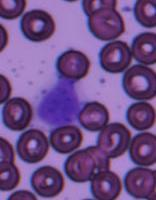L: (35, 77, 82, 126)
